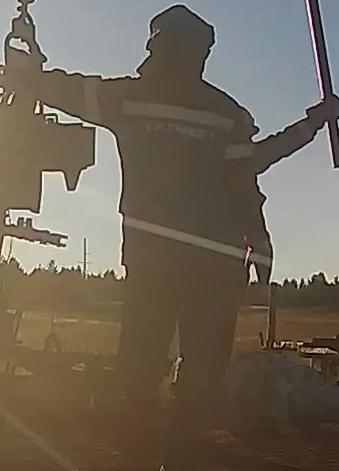gloves: (247, 227, 276, 293), (304, 94, 339, 129)
vest: (83, 73, 255, 297)
